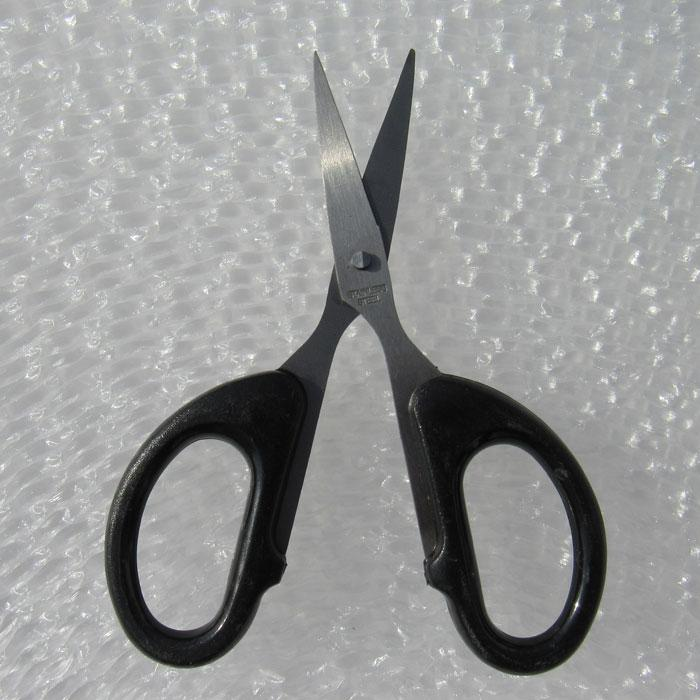scissor: (43, 82, 687, 687)
